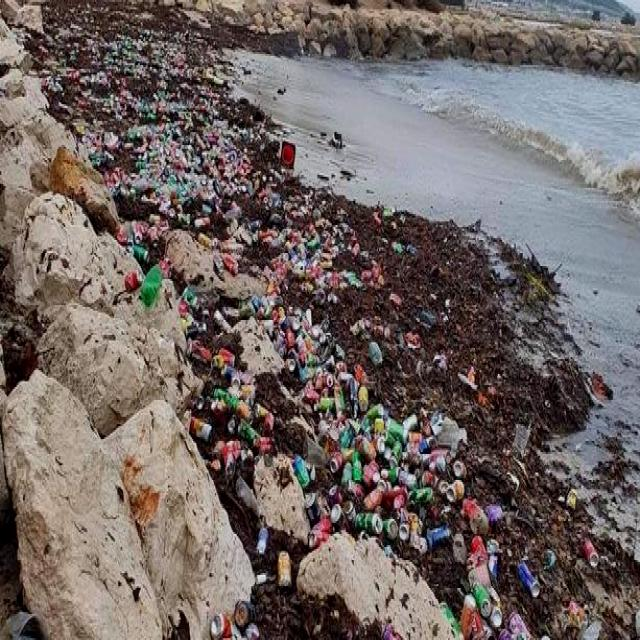garbage: (51, 0, 538, 640)
